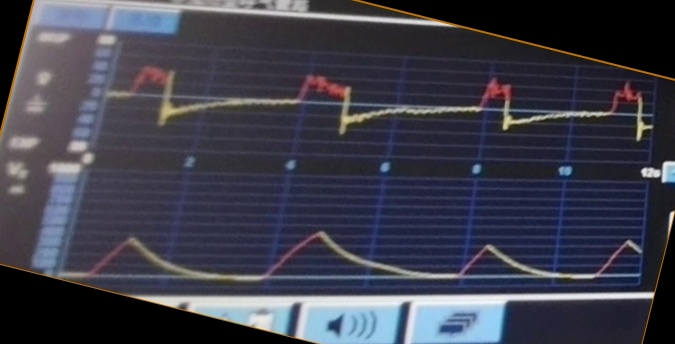Accumulation Flow: (119, 61, 587, 154)
Volume: (78, 207, 635, 283)
